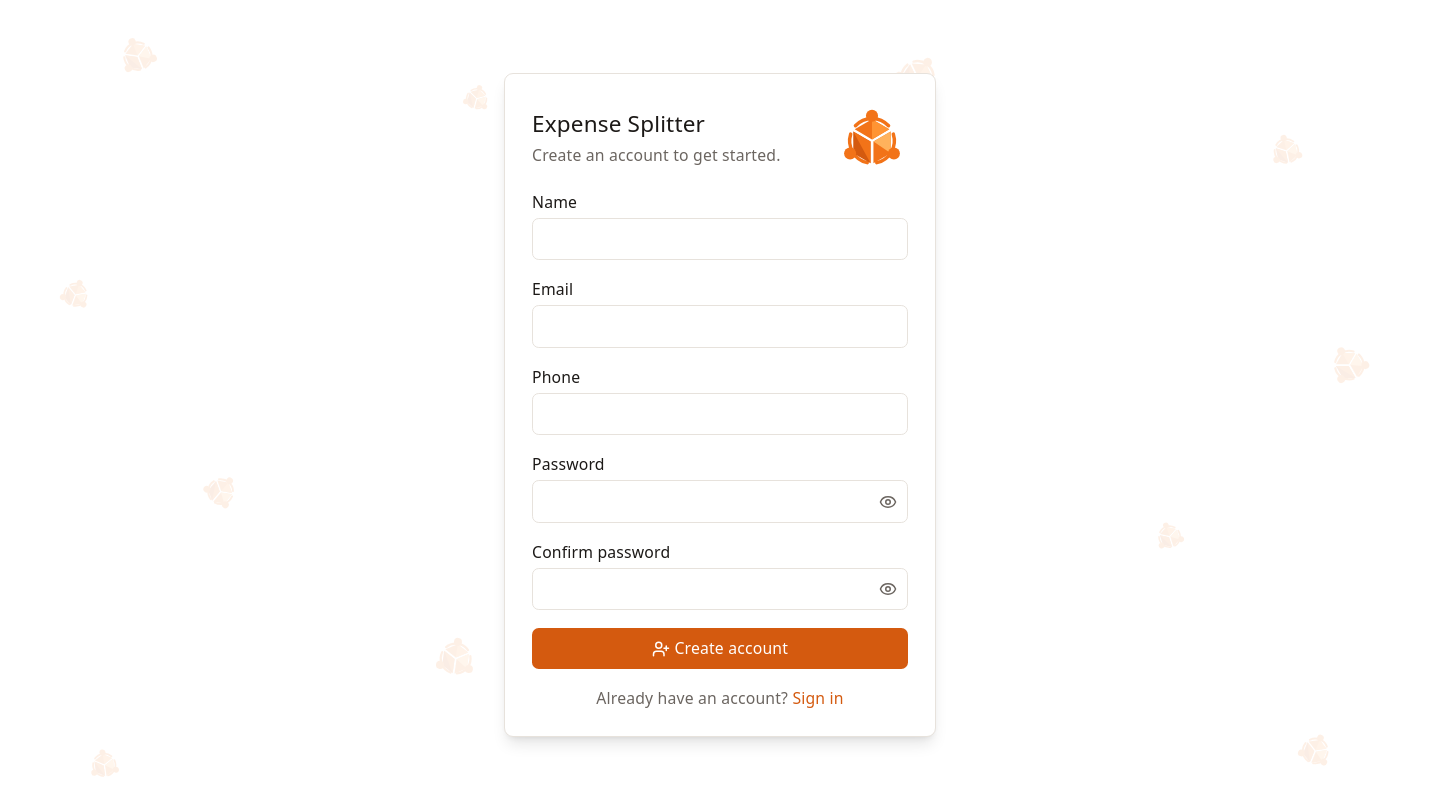
Test: RegisterPage › shows a validation error for a phone number that does not start with 6-9
In the field labelled "Name": [720, 239] box [532,218,908,260], type "New Friend"
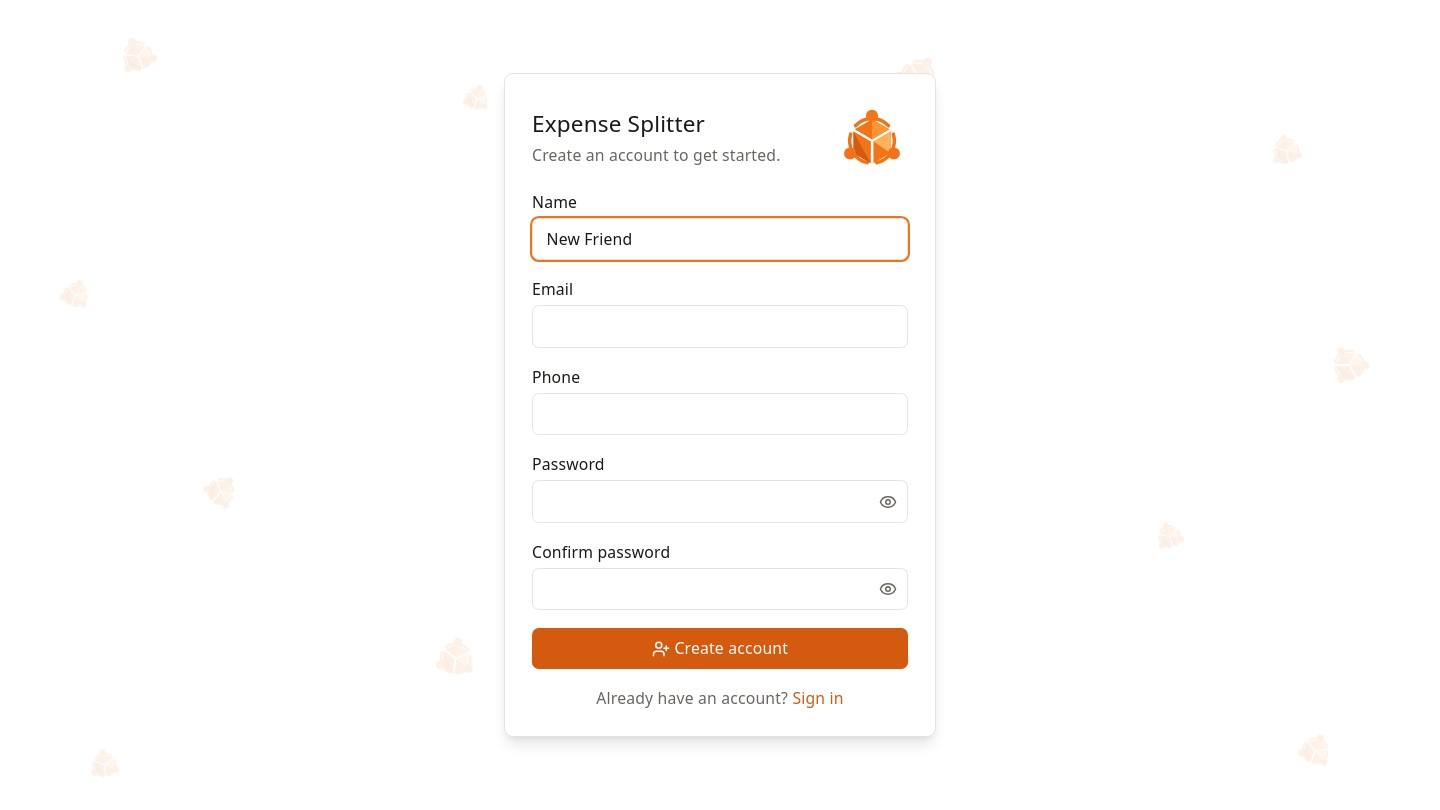
In the field labelled "Email": [720, 327] box [532,305,908,348], type "new.friend@example.com"
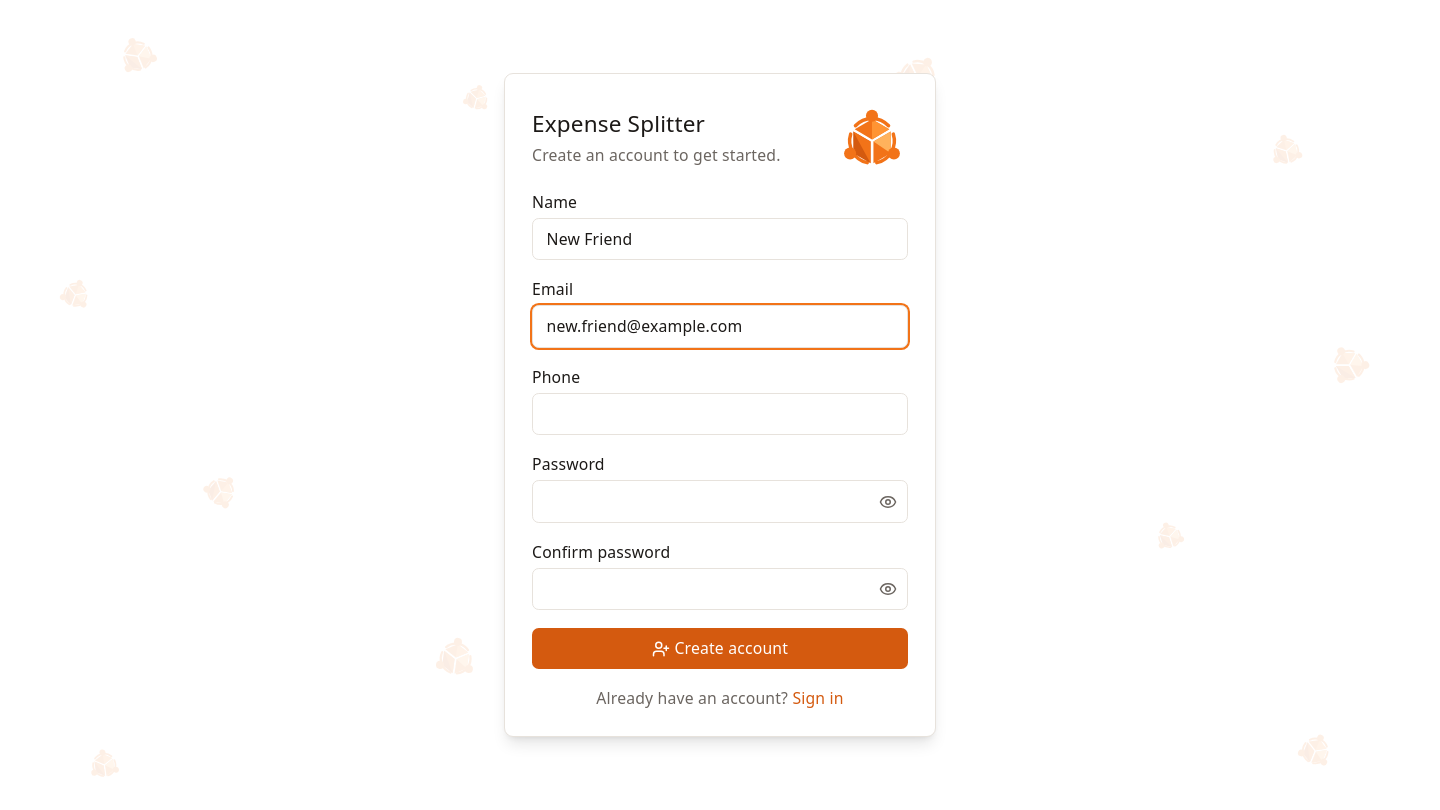
In the field labelled "Phone": [720, 414] box [532,393,908,435], type "5876543210"
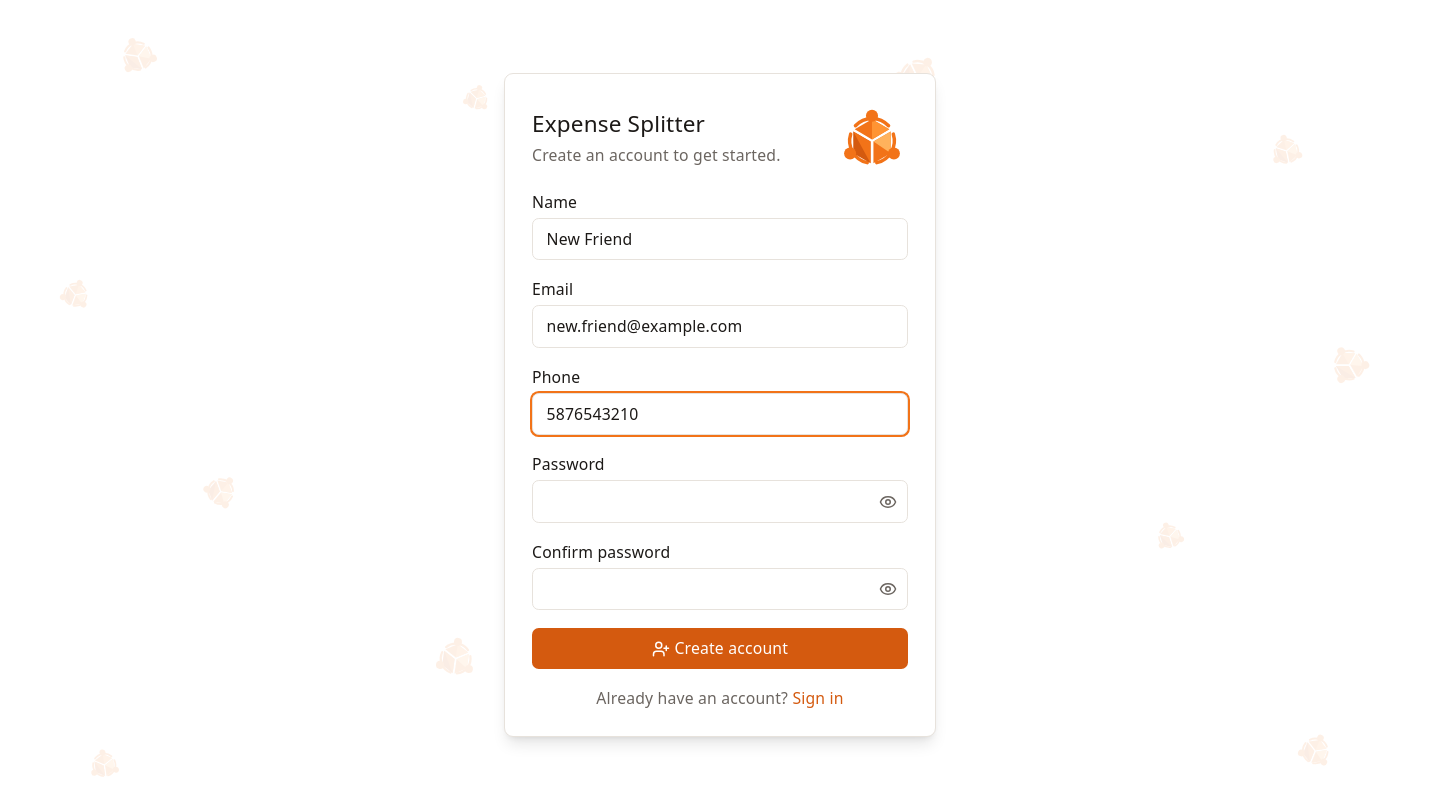
In the password field labelled "Password": [720, 502] box [532,480,908,523], type "correct-horse-battery-staple"
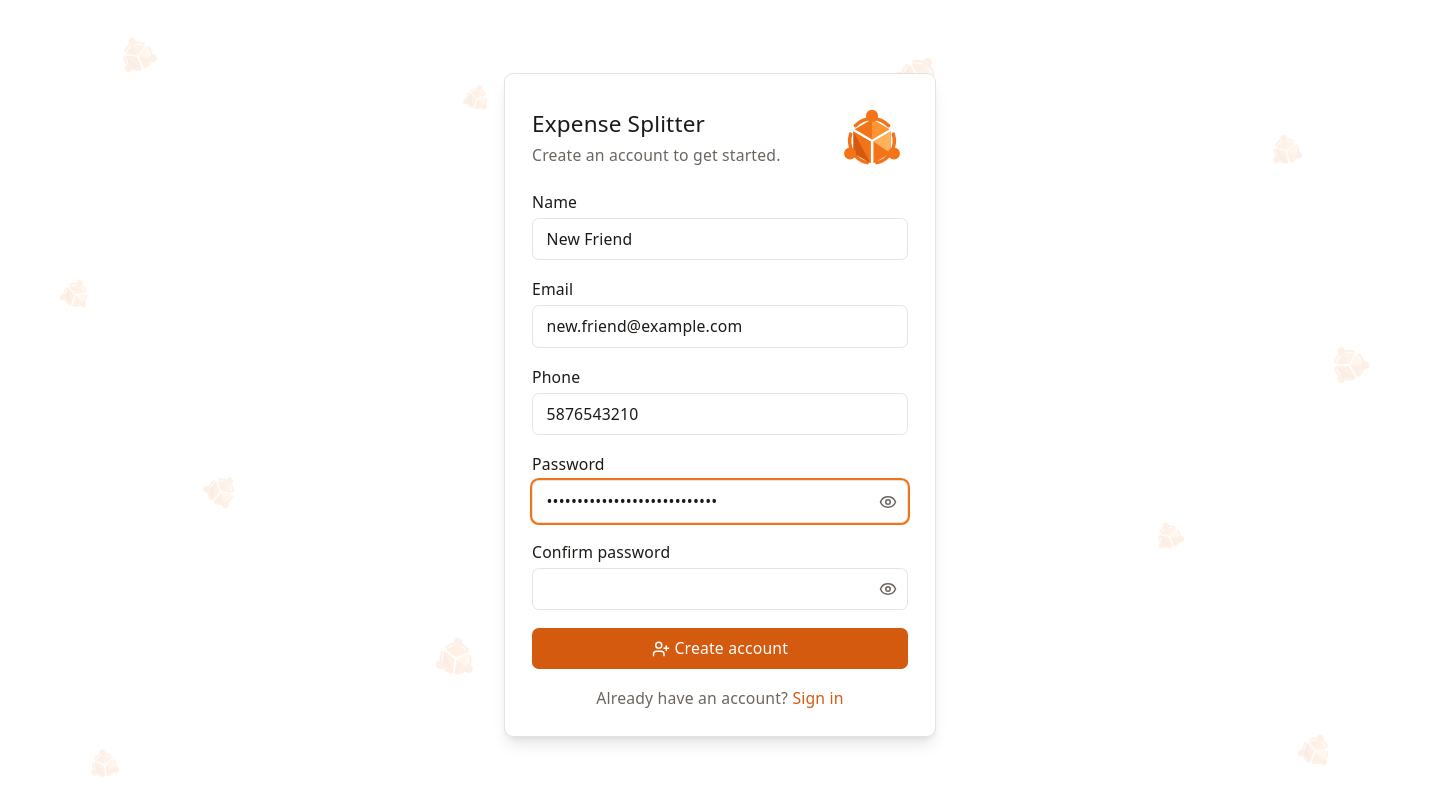
In the password field labelled "Confirm password": [720, 589] box [532,568,908,610], type "correct-horse-battery-staple"
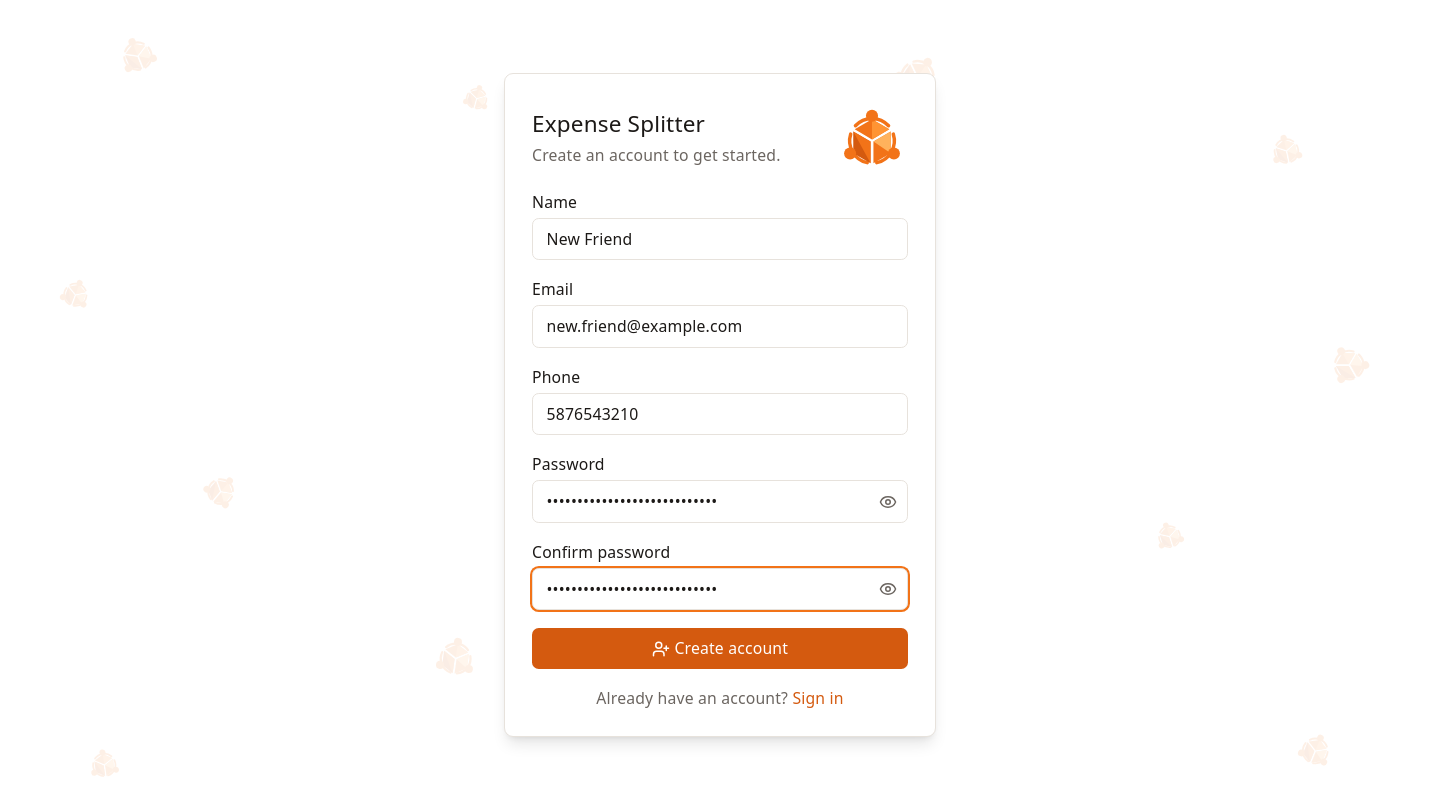
Click the button "Create account": [720, 649] box [532,628,908,669]
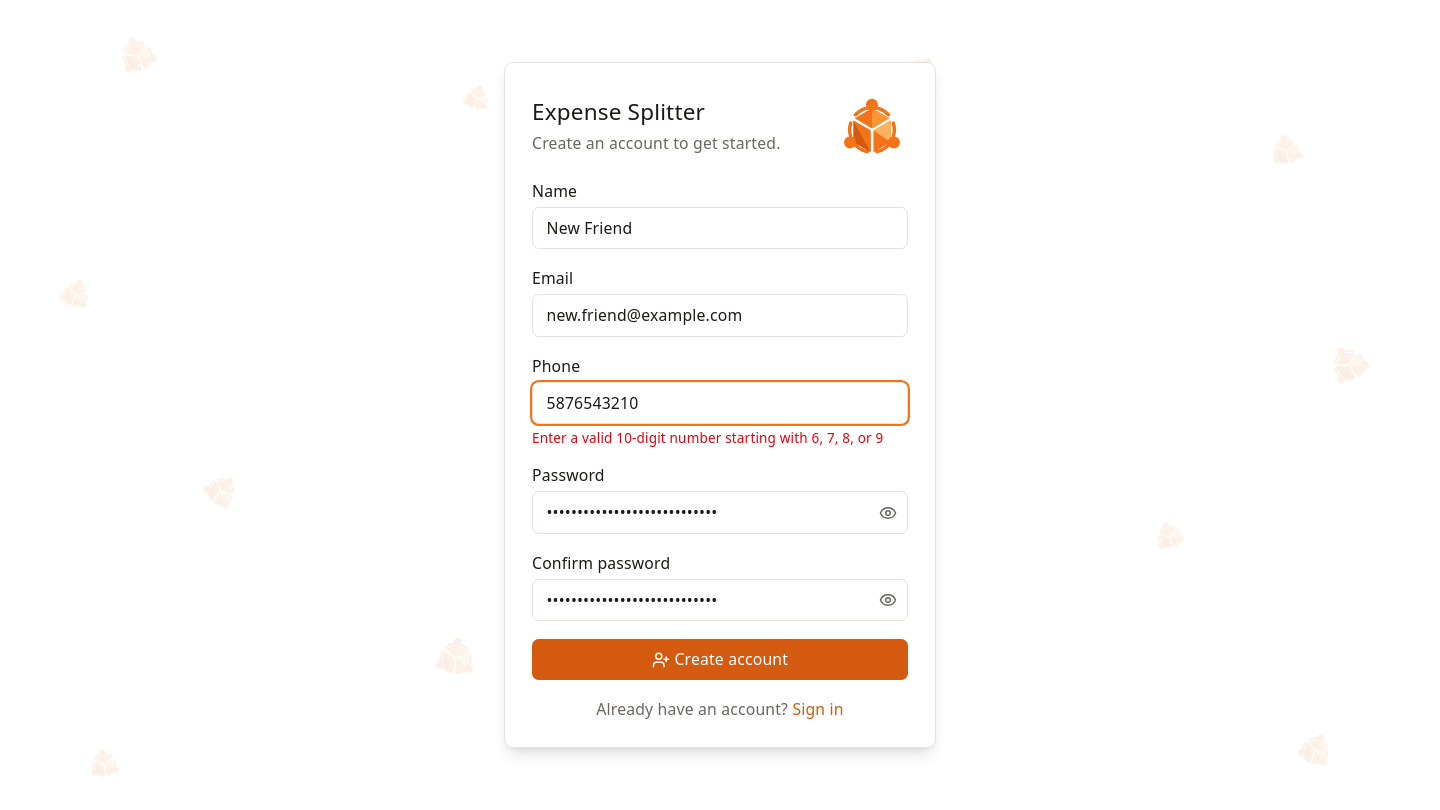
Check: the text "Enter a valid 10-digit number starting with 6, 7, 8, or 9" is shown, box [532,428,908,446]
